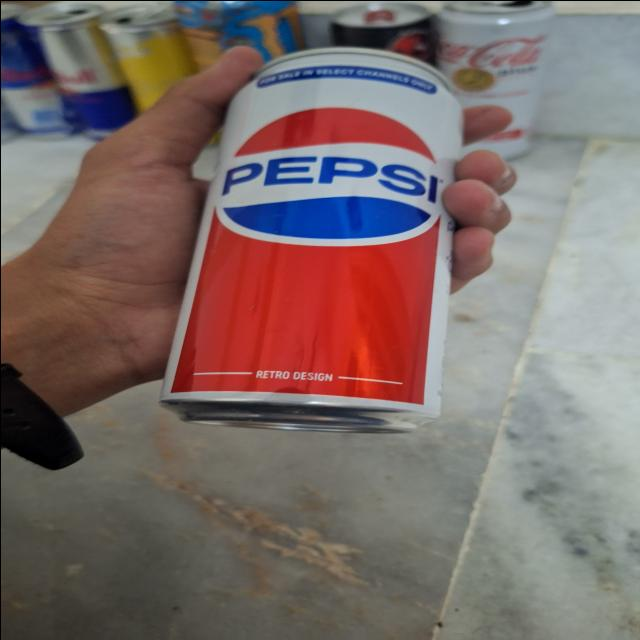Pepsi Retro: (188, 39, 458, 433)
